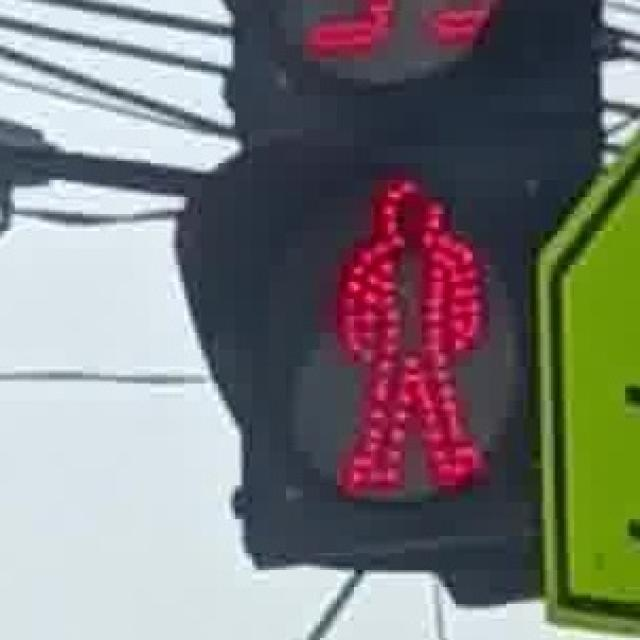red_light: (294, 152, 504, 508)
